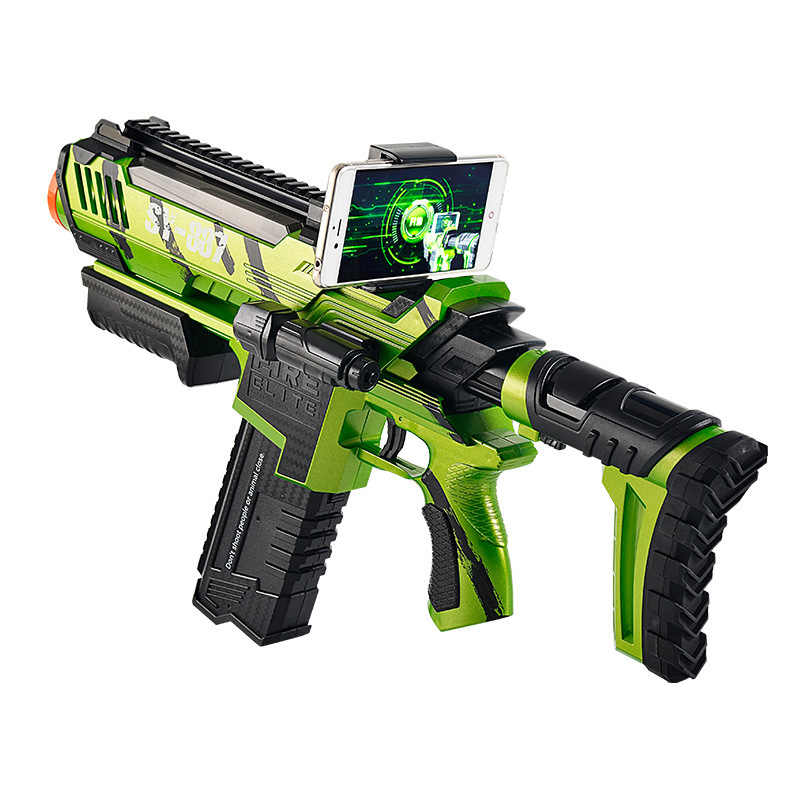Arma Falsa: (37, 107, 746, 691)
